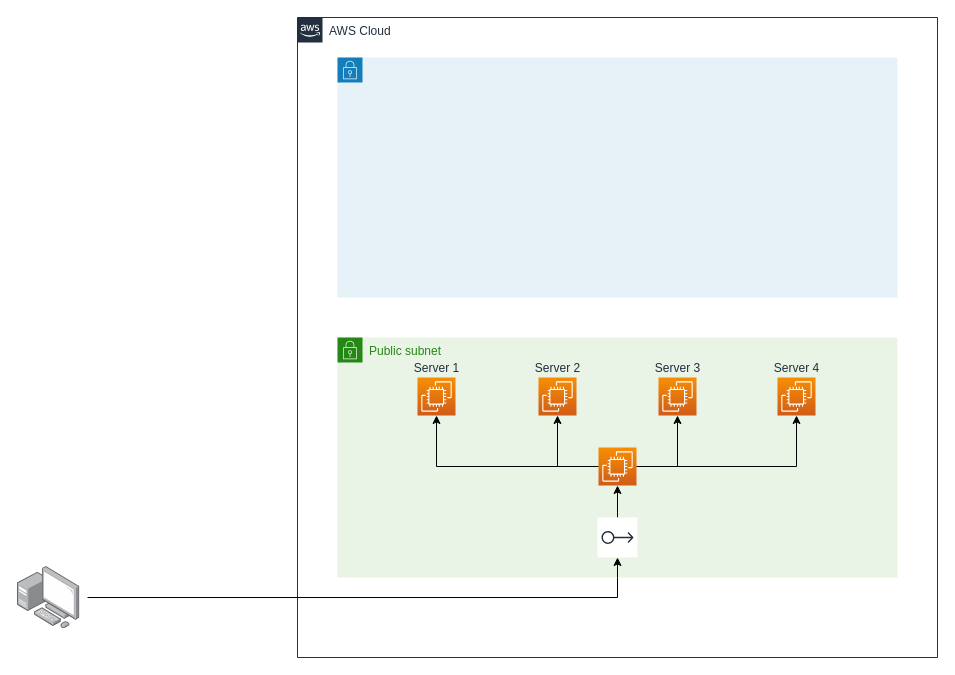
The diagram is 955 pixels wide and 675 high, and some of its shapes have lost their labels. The shapes that lost their labels are listed below. From the top down, each one's box as (x1, y1, x2, y2) in pixels, then its label:
(336, 56, 898, 298): Private subnet
(598, 446, 636, 486): Bastion Server
(596, 516, 638, 558): IP: 52.14.23.5
